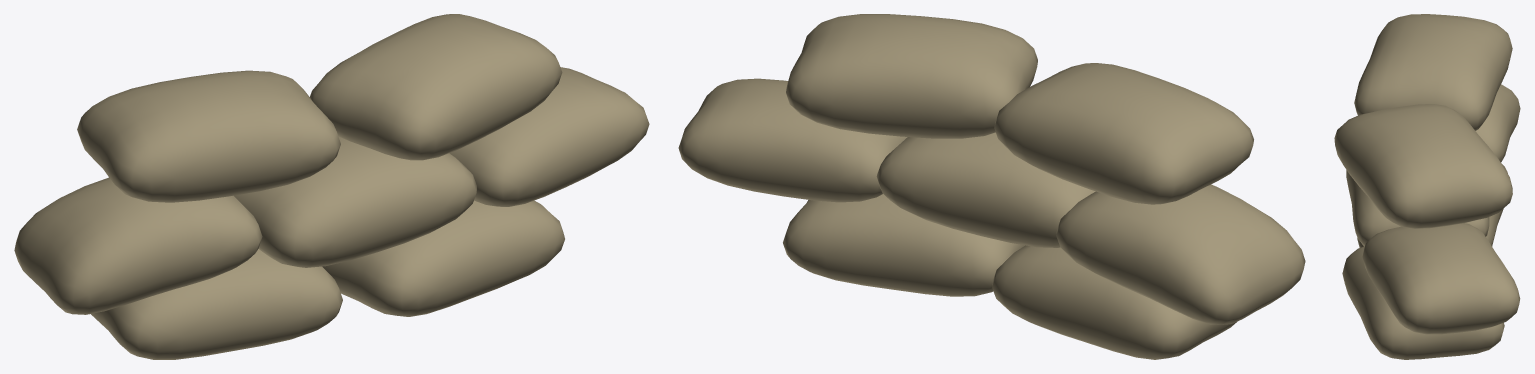
The model's file is SM_SackTrench_Small.fbx.
3 views of the same model, side by side, from view 1: azimuth 30°, elevation 25°; view 2: azimuth 150°, elevation 25°; view 3: azimuth 270°, elevation 25° (orthographic). The views are drawn at different scales.
Visible parts, largest first — view 1: SM_SackTrench_Small; view 2: SM_SackTrench_Small; view 3: SM_SackTrench_Small.
Part boxes in pixels (x1,y1,x2,y2): SM_SackTrench_Small: [14, 14, 649, 359]; SM_SackTrench_Small: [678, 14, 1305, 359]; SM_SackTrench_Small: [1334, 14, 1520, 359].
Size of the model in its own units: 2.32 by 0.9322 by 0.7472.
